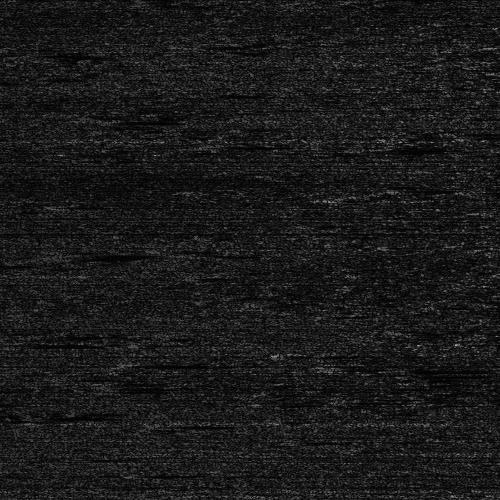object: (119, 359, 172, 364)
shadow: (146, 359, 243, 364)
